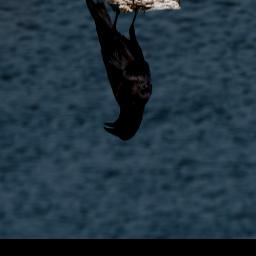Crow: (85, 0, 152, 141)
